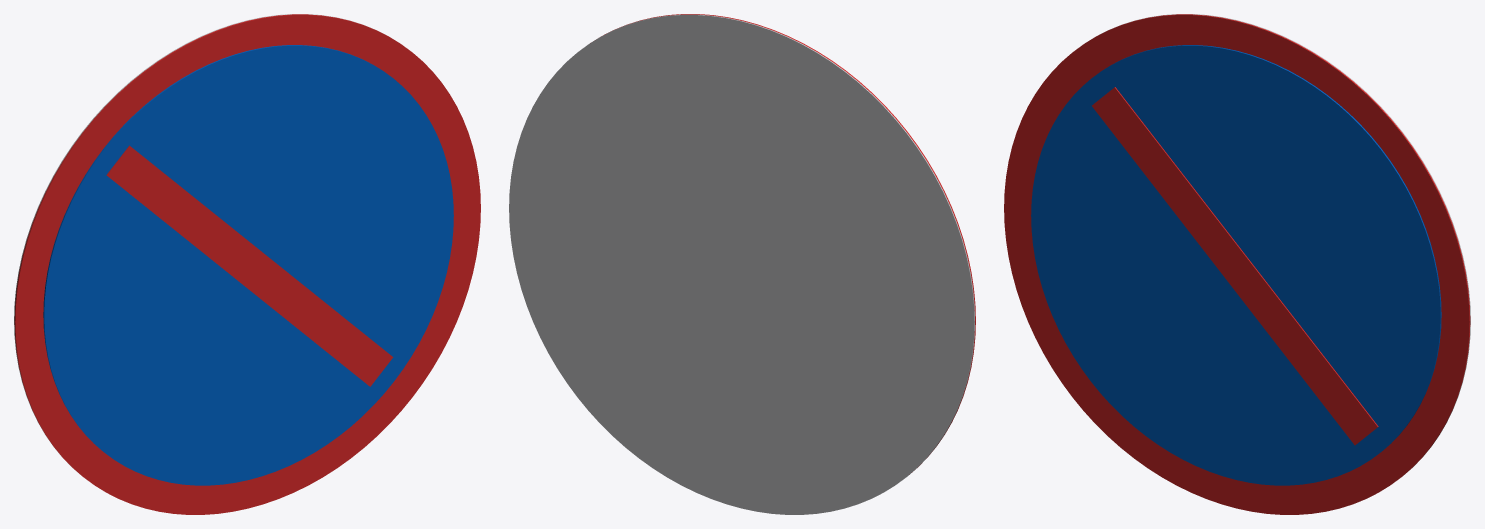
3 renders of one model, left to right at view 1: azimuth 30°, elevation 25°; view 2: azimuth 150°, elevation 25°; view 3: azimuth 330°, elevation 25°, orthographic.
Parts seen in each view (by area): view 1: B6a1_fond, B6a1_bord, B6a1_picto0, B6a1_dos; view 2: B6a1_dos, B6a1_bord; view 3: B6a1_fond, B6a1_bord, B6a1_picto0, B6a1_dos.
Boxes of the visible parts, x1,y1,x2,y2 form: B6a1_fond: (43,45,453,485); B6a1_bord: (14,14,480,514); B6a1_picto0: (106,145,393,386); B6a1_dos: (14,14,385,474); B6a1_dos: (509,14,974,514); B6a1_bord: (601,14,975,474); B6a1_fond: (1031,45,1441,485); B6a1_bord: (1004,14,1470,514); B6a1_picto0: (1092,87,1378,445); B6a1_dos: (1099,14,1470,474).
Bounding box in the file's own units: 0.65 × 0.65 × 0.0083.
